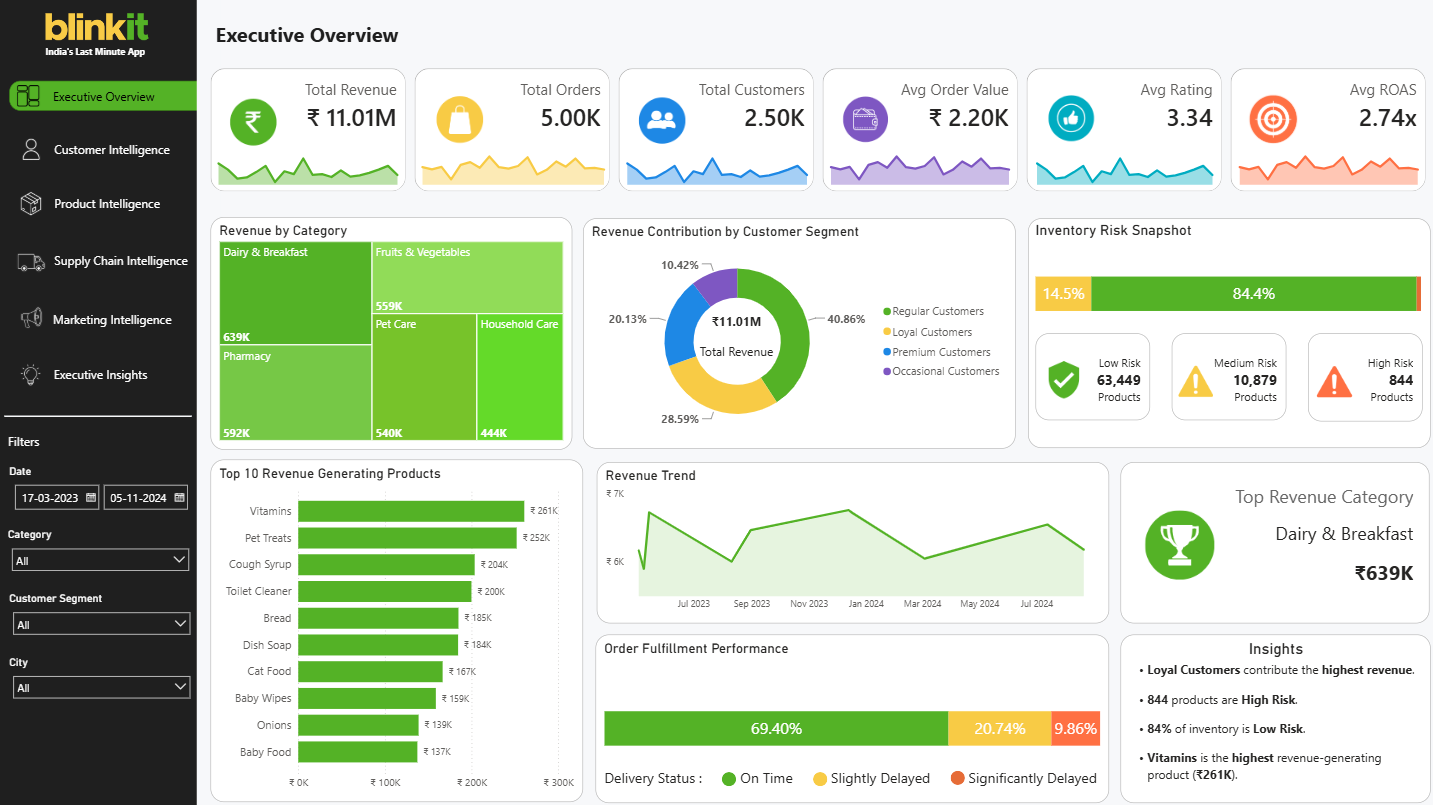

This screenshot's page, from the dashboard's own definition file:
{"tool":"powerbi","page":{"name":"Duplicate of Dashboard","canvas":[1920,1080],"ordinal":1},"visuals":[{"type":"shape","box":[0,0,266.7,1080],"z":0},{"type":"cardVisual","fields":{"Data":["master_kpis.Total Revenue","master_kpis.Total Orders","master_kpis.Total Customers","master_kpis.Average Order Value","master_kpis.Average Rating","master_kpis.Average ROAS"]},"box":[266,72,1654,198],"z":0,"group":"g11"},{"type":"shape","box":[20.4,107.2,221.1,44.4],"z":0,"group":"g1"},{"type":"shape","box":[15.8,112.1,268.6,40],"z":0,"group":"g2"},{"type":"shape","box":[17.8,181.7,240,44.4],"z":0,"group":"g3"},{"type":"shape","box":[17.8,255.2,240,44.4],"z":0,"group":"g4"},{"type":"shape","box":[1373.3,288.3,536.7,306.7],"z":0,"group":"g8"},{"type":"donutChart","title":"Revenue Contribution by Customer Segment","fields":{"Y":["Sum(customer_segments.total_revenue)"],"Category":["customer_segments.Customer Segment Clean"]},"box":[780,288.6,577.1,307.1],"z":0,"group":"g12"},{"type":"shape","box":[20.4,332.2,240,44.4],"z":0,"group":"g5"},{"type":"shape","box":[20.4,406.5,240,44.4],"z":0,"group":"g6"},{"type":"shape","box":[17.8,481.7,240,44.4],"z":0,"group":"g7"},{"type":"textbox","title":"Insights","box":[1496.7,613.3,411.7,215],"z":0,"group":"g10"},{"type":"hundredPercentStackedBarChart","title":"Order Fulfillment Performance","fields":{"Y":["CountNonNull(orders_clean.order_id)"],"Series":["orders_clean.Delivery Status Sort"]},"box":[796.7,843.3,685,225],"z":0,"group":"g9"},{"type":"lineChart","fields":{"Category":["customer_clv.total_orders"],"Y":["CountNonNull(customer_clv.customer_id)"]},"box":[266.7,185.6,281.1,63.9],"z":500,"group":"g11"},{"type":"group","id":"g1","title":"EO_Inactive","box":[20.4,107.2,221.2,44.4],"z":1000},{"type":"textbox","box":[70.7,111.8,156.6,35],"z":1000,"group":"g1"},{"type":"textbox","box":[68.4,116.4,164.6,31.5],"z":1000,"group":"g2"},{"type":"lineChart","fields":{"Y":["Avg(customer_clv.total_revenue)"],"Category":["customer_clv.total_orders"]},"box":[537.2,185.6,285,63.9],"z":1000,"group":"g11"},{"type":"textbox","box":[70.1,186.3,170,35.2],"z":1000,"group":"g3"},{"type":"textbox","box":[69.5,259.3,170,35.2],"z":1000,"group":"g4"},{"type":"hundredPercentStackedBarChart","title":"Inventory Risk Snapshot","fields":{"Series":["inventory_master.risk_category"],"Category":["inventory_master.Inventory Status"],"Y":["inventory_master.Count of Product ID"]},"box":[1384,296,514,180],"z":1000,"group":"g8"},{"type":"textbox","box":[70.3,336.1,203.9,36.1],"z":1000,"group":"g5"},{"type":"textbox","box":[902,410,166,80],"z":1000,"group":"g12"},{"type":"textbox","box":[69.3,412.8,170,35.2],"z":1000,"group":"g6"},{"type":"textbox","box":[65,486.9,141.6,34.8],"z":1000,"group":"g7"},{"type":"image","box":[1522,670,106,106],"z":1000,"group":"g10"},{"type":"textbox","box":[802.8,1017.2,674.5,40.9],"z":1000,"group":"g9"},{"type":"image","box":[28.7,108.8,32.2,41],"z":2000,"group":"g1"},{"type":"group","id":"g2","title":"EO_Active","box":[15.8,112.1,268.6,40],"z":2000},{"type":"image","box":[24.4,113.7,33.9,36.9],"z":2000,"group":"g2"},{"type":"lineChart","fields":{"Category":["customer_clv.total_orders"],"Y":["CountNonNull(customer_clv.customer_id)"]},"box":[810.6,185.6,282.2,63.9],"z":2000,"group":"g11"},{"type":"image","box":[25.6,187.3,34.8,33.2],"z":2000,"group":"g3"},{"type":"image","box":[25.6,259.3,34.5,35.5],"z":2000,"group":"g4"},{"type":"image","box":[25.1,334.9,38.4,39],"z":2000,"group":"g5"},{"type":"image","box":[28,408.3,32.9,38.4],"z":2000,"group":"g6"},{"type":"textbox","box":[1383.7,442.5,152.5,116.2],"z":2000,"group":"g8"},{"type":"image","box":[27.9,485,30.3,38.1],"z":2000,"group":"g7"},{"type":"shape","box":[965.8,1026.6,19.3,19],"z":2000,"group":"g9"},{"type":"group","id":"g3","title":"CI_Inactive","box":[17.8,181.7,240,44.4],"z":3000},{"type":"lineChart","fields":{"Category":["customer_clv.total_orders"],"Y":["Avg(customer_clv.total_revenue)"]},"box":[1082.2,186.1,280,63.9],"z":3000,"group":"g11"},{"type":"textbox","box":[1565,442.5,152.5,116.2],"z":3000,"group":"g8"},{"type":"shape","box":[1087.1,1026.4,19.3,19],"z":3000,"group":"g9"},{"type":"lineChart","fields":{"Category":["customer_clv.total_orders"],"Y":["CountNonNull(customer_clv.customer_id)"]},"box":[1357.8,186.1,276.1,63.9],"z":4000,"group":"g11"},{"type":"textbox","box":[1746.2,441.2,152.5,117.5],"z":4000,"group":"g8"},{"type":"shape","box":[1269.7,1025.5,19.3,19],"z":4000,"group":"g9"},{"type":"lineChart","fields":{"Category":["customer_clv.total_orders"],"Y":["Avg(customer_clv.total_revenue)"]},"box":[1627.8,185.6,280,63.9],"z":5000,"group":"g11"},{"type":"group","id":"g4","title":"PI_Inactive","box":[17.8,255.2,240,44.4],"z":5000},{"type":"image","box":[1572.1,481.4,50.7,48.6],"z":5000,"group":"g8"},{"type":"image","box":[296,108.5,71.2,67.1],"z":6000,"group":"g11"},{"type":"image","box":[1390,476.3,62.7,55.5],"z":6000,"group":"g8"},{"type":"image","box":[567.4,107.9,70.9,66.8],"z":7000,"group":"g11"},{"type":"group","id":"g5","title":"SCI_Inactive","box":[20.4,332.2,253.7,44.4],"z":7000},{"type":"image","box":[1756.4,481.4,50.7,48.6],"z":7000,"group":"g8"},{"type":"image","box":[1113,105.8,70.9,65.9],"z":8000,"group":"g11"},{"type":"textbox","box":[1373.3,288.5,281.8,49.3],"z":8000,"group":"g8"},{"type":"image","box":[1385.2,105.8,70.9,66.2],"z":9000,"group":"g11"},{"type":"group","id":"g6","title":"MI_Inactive","box":[20.4,406.5,240,44.4],"z":9000},{"type":"image","box":[1656.7,105.8,71.2,66.9],"z":10000,"group":"g11"},{"type":"image","box":[838.3,107.9,71.4,66.8],"z":11000,"group":"g11"},{"type":"group","id":"g7","title":"EI_Inactive","box":[17.8,481.7,240,44.4],"z":11000},{"type":"textbox","box":[285,20,283.3,51.7],"z":13000},{"type":"image","box":[62.7,20.7,137.3,39.6],"z":14000},{"type":"shape","box":[265,0,20,1000],"z":15000},{"type":"textbox","box":[58.8,57.6,144.2,28.8],"z":16000},{"type":"slicer","title":"Date","fields":{"Values":["inventory_master.date"]},"box":[10,623.6,255,76.4],"z":17000},{"type":"slicer","title":"Category","fields":{"Values":["inventory_master.category"]},"box":[8.6,708.6,256.4,71.4],"z":18000},{"type":"shape","box":[8,551.3,250,14.7],"z":19000},{"type":"textbox","box":[8.3,576.7,141.7,38.3],"z":20000},{"type":"slicer","title":"Customer Segment","fields":{"Values":["customer_segments.Customer Segment Clean"]},"box":[9.3,792.9,256.4,71.4],"z":21000},{"type":"slicer","title":"City","fields":{"Values":["customer_clv.area"]},"box":[10,878.6,256.4,71.4],"z":22000},{"type":"treemap","title":"Revenue by Category","fields":{"Values":["Sum(product_summary.revenue)"],"Group":["product_summary.category"]},"box":[275.7,288.6,488.6,308.6],"z":23000},{"type":"lineChart","title":"Revenue Trend","fields":{"Category":["orders_clean.order_date"],"Y":["Sum(orders_clean.order_total)"]},"box":[798.3,613.3,683.3,215],"z":24000},{"type":"barChart","title":"Top 10 Revenue Generating Products","fields":{"Category":["pareto_analysis.product_name"],"Y":["Sum(pareto_analysis.revenue)"]},"box":[275.7,612.9,504.3,454.3],"z":25000},{"type":"textbox","title":"Insights","box":[1496.7,843.3,413.3,225],"z":26000},{"type":"group","id":"g8","title":"Inventory Risk Snapshot","box":[1373.3,288.3,536.7,306.7],"z":27000},{"type":"group","id":"g9","title":"Order Fulfillment Performance","box":[796.7,843.3,685,225],"z":28000},{"type":"group","id":"g10","title":"Top Revenue Category","box":[1496.7,613.3,411.7,215],"z":29000},{"type":"group","id":"g11","title":"card","box":[266,72,1654,198],"z":30000},{"type":"group","id":"g12","title":"Revenue Contribution by Customer Segment","box":[780,288.6,577.1,307.1],"z":31000}]}

Visuals, with their boxes on the page's 1920x1080 design canvas (x1, y1, x2, y2). These are canvas units, not pixel positions in the 1433x805 screenshot, which may show the page scaled, cropped or inside an application window:
shape: (x1=0, y1=0, x2=267, y2=1080)
cardVisual - master_kpis.Total Revenue x master_kpis.Total Orders: (x1=266, y1=72, x2=1920, y2=270)
shape: (x1=20, y1=107, x2=242, y2=152)
shape: (x1=16, y1=112, x2=284, y2=152)
shape: (x1=18, y1=182, x2=258, y2=226)
shape: (x1=18, y1=255, x2=258, y2=300)
shape: (x1=1373, y1=288, x2=1910, y2=595)
"Revenue Contribution by Customer Segment" donutChart: (x1=780, y1=289, x2=1357, y2=596)
shape: (x1=20, y1=332, x2=260, y2=377)
shape: (x1=20, y1=406, x2=260, y2=451)
shape: (x1=18, y1=482, x2=258, y2=526)
"Insights" textbox: (x1=1497, y1=613, x2=1908, y2=828)
"Order Fulfillment Performance" hundredPercentStackedBarChart: (x1=797, y1=843, x2=1482, y2=1068)
lineChart - customer_clv.total_orders x CountNonNull(customer_clv.customer_id): (x1=267, y1=186, x2=548, y2=250)
"EO_Inactive" group: (x1=20, y1=107, x2=242, y2=152)
textbox: (x1=71, y1=112, x2=227, y2=147)
textbox: (x1=68, y1=116, x2=233, y2=148)
lineChart - Avg(customer_clv.total_revenue) x customer_clv.total_orders: (x1=537, y1=186, x2=822, y2=250)
textbox: (x1=70, y1=186, x2=240, y2=222)
textbox: (x1=70, y1=259, x2=240, y2=294)
"Inventory Risk Snapshot" hundredPercentStackedBarChart: (x1=1384, y1=296, x2=1898, y2=476)
textbox: (x1=70, y1=336, x2=274, y2=372)
textbox: (x1=902, y1=410, x2=1068, y2=490)
textbox: (x1=69, y1=413, x2=239, y2=448)
textbox: (x1=65, y1=487, x2=207, y2=522)
image: (x1=1522, y1=670, x2=1628, y2=776)
textbox: (x1=803, y1=1017, x2=1477, y2=1058)
image: (x1=29, y1=109, x2=61, y2=150)
"EO_Active" group: (x1=16, y1=112, x2=284, y2=152)
image: (x1=24, y1=114, x2=58, y2=151)
lineChart - customer_clv.total_orders x CountNonNull(customer_clv.customer_id): (x1=811, y1=186, x2=1093, y2=250)
image: (x1=26, y1=187, x2=60, y2=220)
image: (x1=26, y1=259, x2=60, y2=295)
image: (x1=25, y1=335, x2=64, y2=374)
image: (x1=28, y1=408, x2=61, y2=447)
textbox: (x1=1384, y1=442, x2=1536, y2=559)
image: (x1=28, y1=485, x2=58, y2=523)
shape: (x1=966, y1=1027, x2=985, y2=1046)
"CI_Inactive" group: (x1=18, y1=182, x2=258, y2=226)
lineChart - customer_clv.total_orders x Avg(customer_clv.total_revenue): (x1=1082, y1=186, x2=1362, y2=250)
textbox: (x1=1565, y1=442, x2=1718, y2=559)
shape: (x1=1087, y1=1026, x2=1106, y2=1045)
lineChart - customer_clv.total_orders x CountNonNull(customer_clv.customer_id): (x1=1358, y1=186, x2=1634, y2=250)
textbox: (x1=1746, y1=441, x2=1899, y2=559)
shape: (x1=1270, y1=1026, x2=1289, y2=1044)
lineChart - customer_clv.total_orders x Avg(customer_clv.total_revenue): (x1=1628, y1=186, x2=1908, y2=250)
"PI_Inactive" group: (x1=18, y1=255, x2=258, y2=300)
image: (x1=1572, y1=481, x2=1623, y2=530)
image: (x1=296, y1=108, x2=367, y2=176)
image: (x1=1390, y1=476, x2=1453, y2=532)
image: (x1=567, y1=108, x2=638, y2=175)
"SCI_Inactive" group: (x1=20, y1=332, x2=274, y2=377)
image: (x1=1756, y1=481, x2=1807, y2=530)
image: (x1=1113, y1=106, x2=1184, y2=172)
textbox: (x1=1373, y1=288, x2=1655, y2=338)
image: (x1=1385, y1=106, x2=1456, y2=172)
"MI_Inactive" group: (x1=20, y1=406, x2=260, y2=451)
image: (x1=1657, y1=106, x2=1728, y2=173)
image: (x1=838, y1=108, x2=910, y2=175)
"EI_Inactive" group: (x1=18, y1=482, x2=258, y2=526)
textbox: (x1=285, y1=20, x2=568, y2=72)
image: (x1=63, y1=21, x2=200, y2=60)
shape: (x1=265, y1=0, x2=285, y2=1000)
textbox: (x1=59, y1=58, x2=203, y2=86)
"Date" slicer: (x1=10, y1=624, x2=265, y2=700)
"Category" slicer: (x1=9, y1=709, x2=265, y2=780)
shape: (x1=8, y1=551, x2=258, y2=566)
textbox: (x1=8, y1=577, x2=150, y2=615)
"Customer Segment" slicer: (x1=9, y1=793, x2=266, y2=864)
"City" slicer: (x1=10, y1=879, x2=266, y2=950)
"Revenue by Category" treemap: (x1=276, y1=289, x2=764, y2=597)
"Revenue Trend" lineChart: (x1=798, y1=613, x2=1482, y2=828)
"Top 10 Revenue Generating Products" barChart: (x1=276, y1=613, x2=780, y2=1067)
"Insights" textbox: (x1=1497, y1=843, x2=1910, y2=1068)
"Inventory Risk Snapshot" group: (x1=1373, y1=288, x2=1910, y2=595)
"Order Fulfillment Performance" group: (x1=797, y1=843, x2=1482, y2=1068)
"Top Revenue Category" group: (x1=1497, y1=613, x2=1908, y2=828)
"card" group: (x1=266, y1=72, x2=1920, y2=270)
"Revenue Contribution by Customer Segment" group: (x1=780, y1=289, x2=1357, y2=596)
